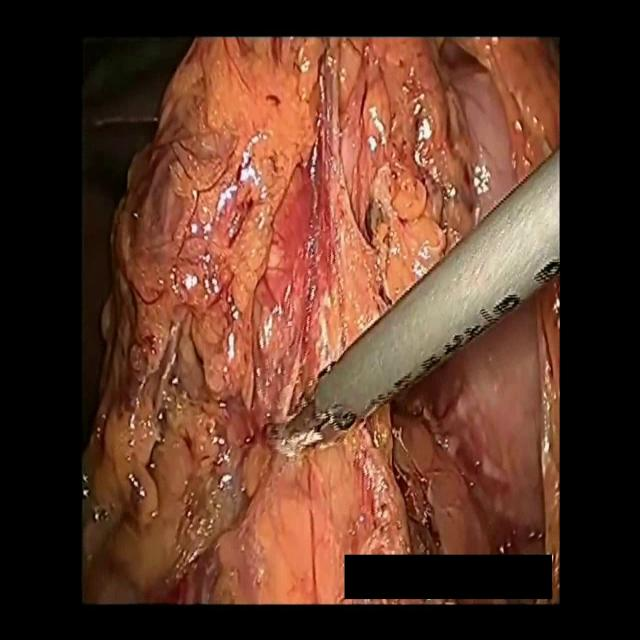surgical-area: (77, 33, 562, 605)
surgical-tool: (286, 147, 562, 445)
